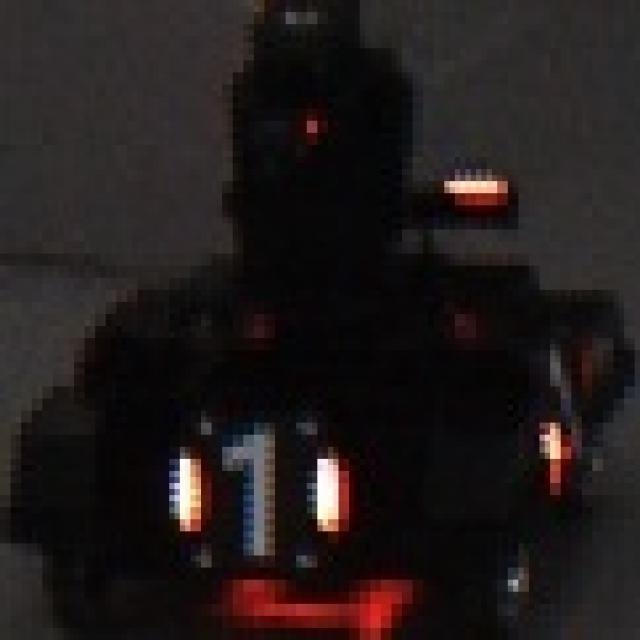R1: (175, 429, 349, 543), (540, 338, 587, 507)
